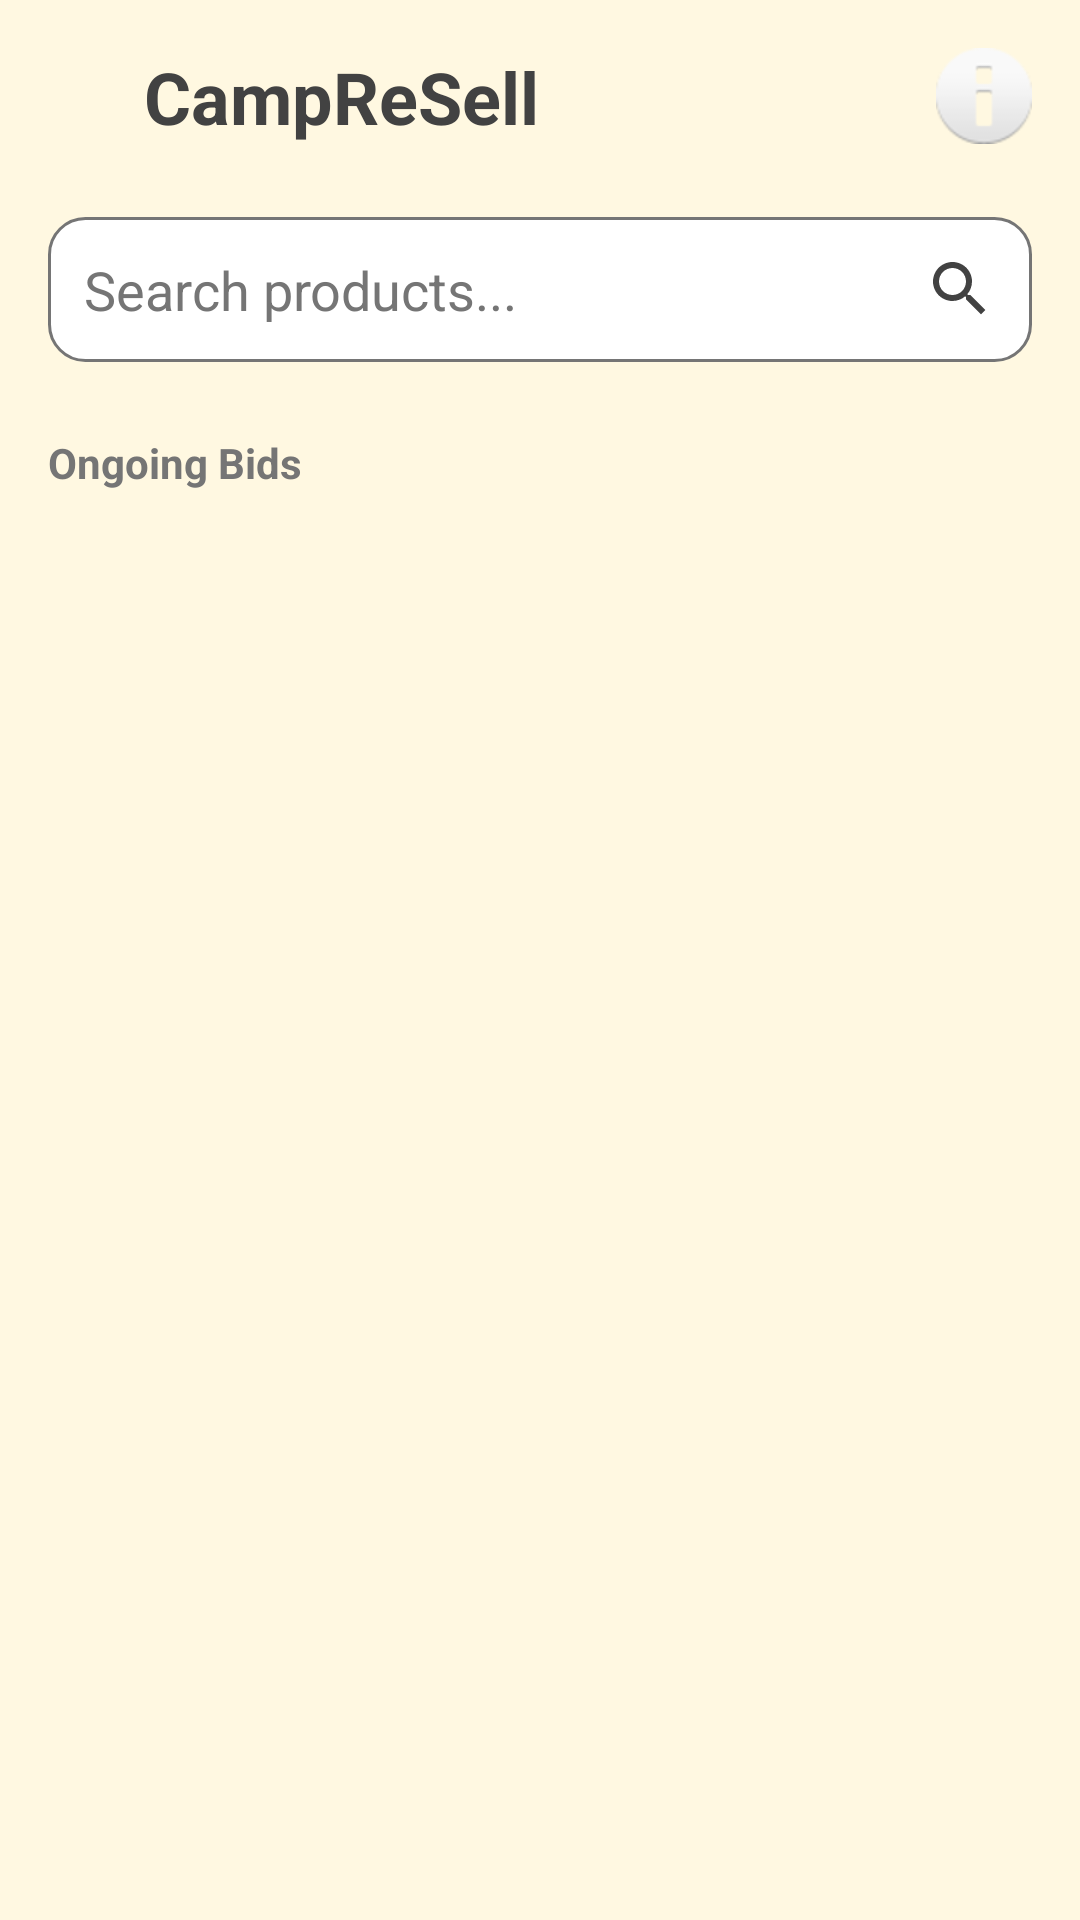

Icon click points for this 1080px×1920px phone screenshot, format (x=x, y=y):
info: (x=984, y=96)
